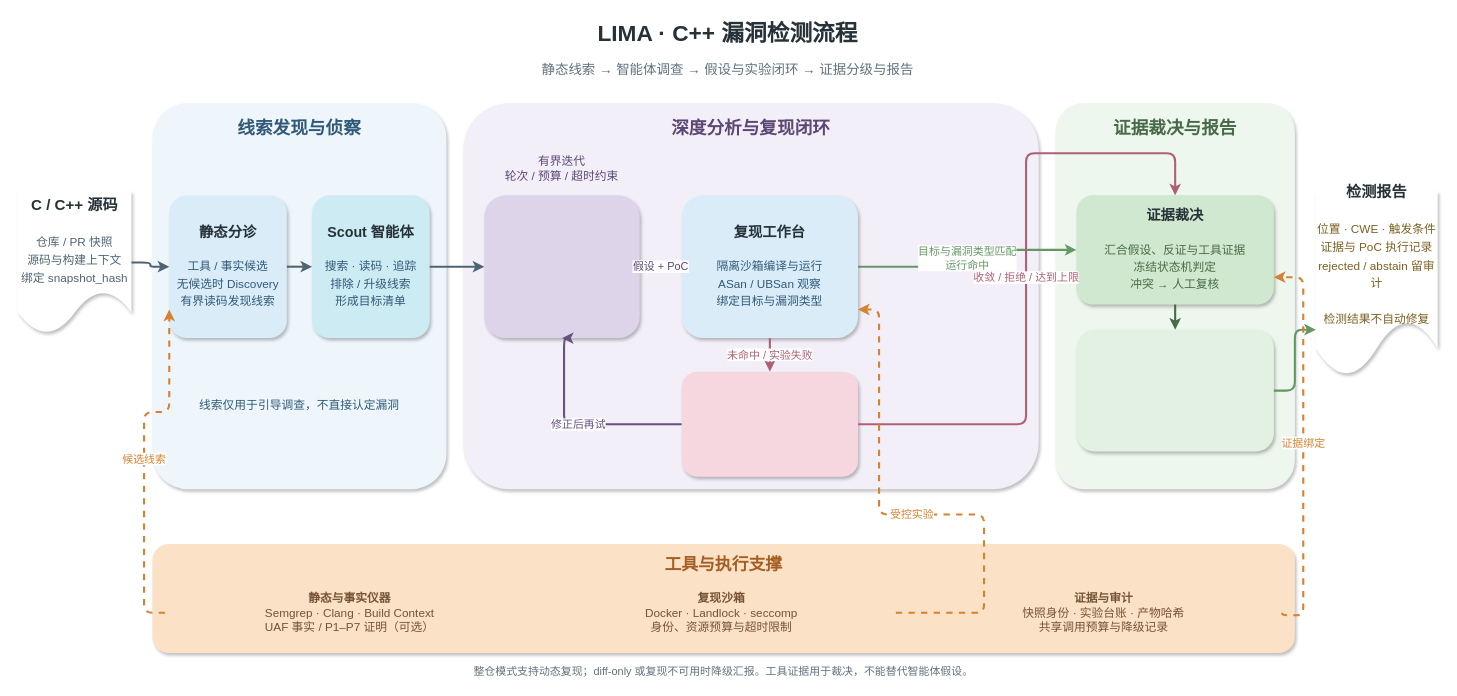
The diagram is 1457 pixels wide and 696 high, and some of its shapes have lost their labels. Here are the shapes that lost their labels. From the top down, the centre of each, then its label:
point 562,268: Specialist 分析生命周期 / 数据流 提出漏洞假设与 CWE 生成 PoC 驱动
point 1175,391: 发现分级 semantic-supported fact-verified runtime-confirmed needs-human-review
point 770,425: Critic 智能体 寻找反证与替代解释 修正假设 / PoC 拒绝或停止调查
